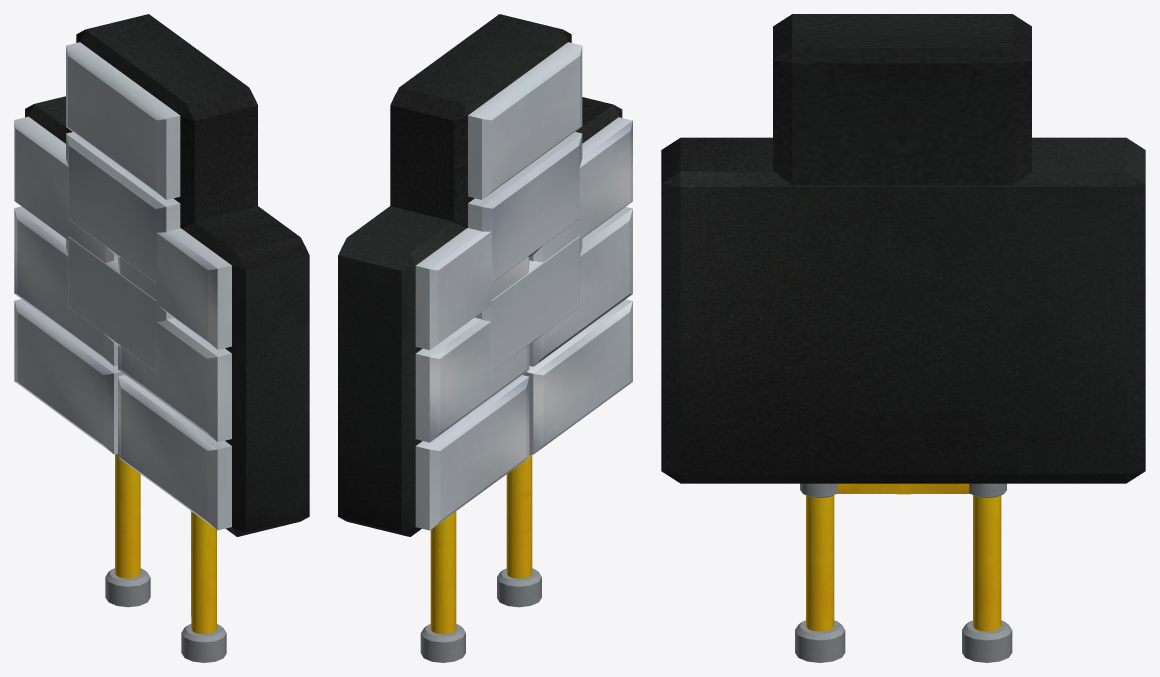
File: FloodLight 1.fbx
3 renders of one model, left to right at view 1: azimuth 30°, elevation 25°; view 2: azimuth 150°, elevation 25°; view 3: azimuth 270°, elevation 25°, orthographic. The views are drawn at different scales.
Visible parts, largest first — view 1: 6-PackFloodLight.001, 6-PackFloodLight, 3-PackFloodLight.002, 3-PackFloodLight.001, FloodlightSupport; view 2: 6-PackFloodLight.001, 6-PackFloodLight, 3-PackFloodLight.002, 3-PackFloodLight.001, FloodlightSupport; view 3: 6-PackFloodLight, 3-PackFloodLight.001, FloodlightSupport.
Boxes of the visible parts, x1=… form: 6-PackFloodLight.001: x1=14, y1=116, x2=231, y2=530; 6-PackFloodLight: x1=25, y1=96, x2=309, y2=536; 3-PackFloodLight.002: x1=66, y1=42, x2=180, y2=371; 3-PackFloodLight.001: x1=76, y1=14, x2=257, y2=228; FloodlightSupport: x1=105, y1=454, x2=226, y2=662; 6-PackFloodLight.001: x1=415, y1=117, x2=632, y2=530; 6-PackFloodLight: x1=338, y1=97, x2=622, y2=536; 3-PackFloodLight.002: x1=468, y1=42, x2=582, y2=371; 3-PackFloodLight.001: x1=390, y1=14, x2=571, y2=228; FloodlightSupport: x1=420, y1=454, x2=541, y2=662; 6-PackFloodLight: x1=661, y1=137, x2=1145, y2=483; 3-PackFloodLight.001: x1=773, y1=14, x2=1031, y2=185; FloodlightSupport: x1=795, y1=483, x2=1012, y2=662.
Size of the model in its own units: 853 by 5002 by 3532.
